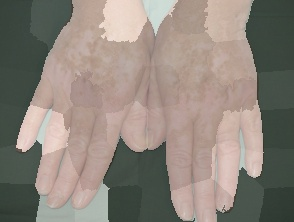vitiligo: (33, 14, 154, 143), (148, 36, 247, 161)
